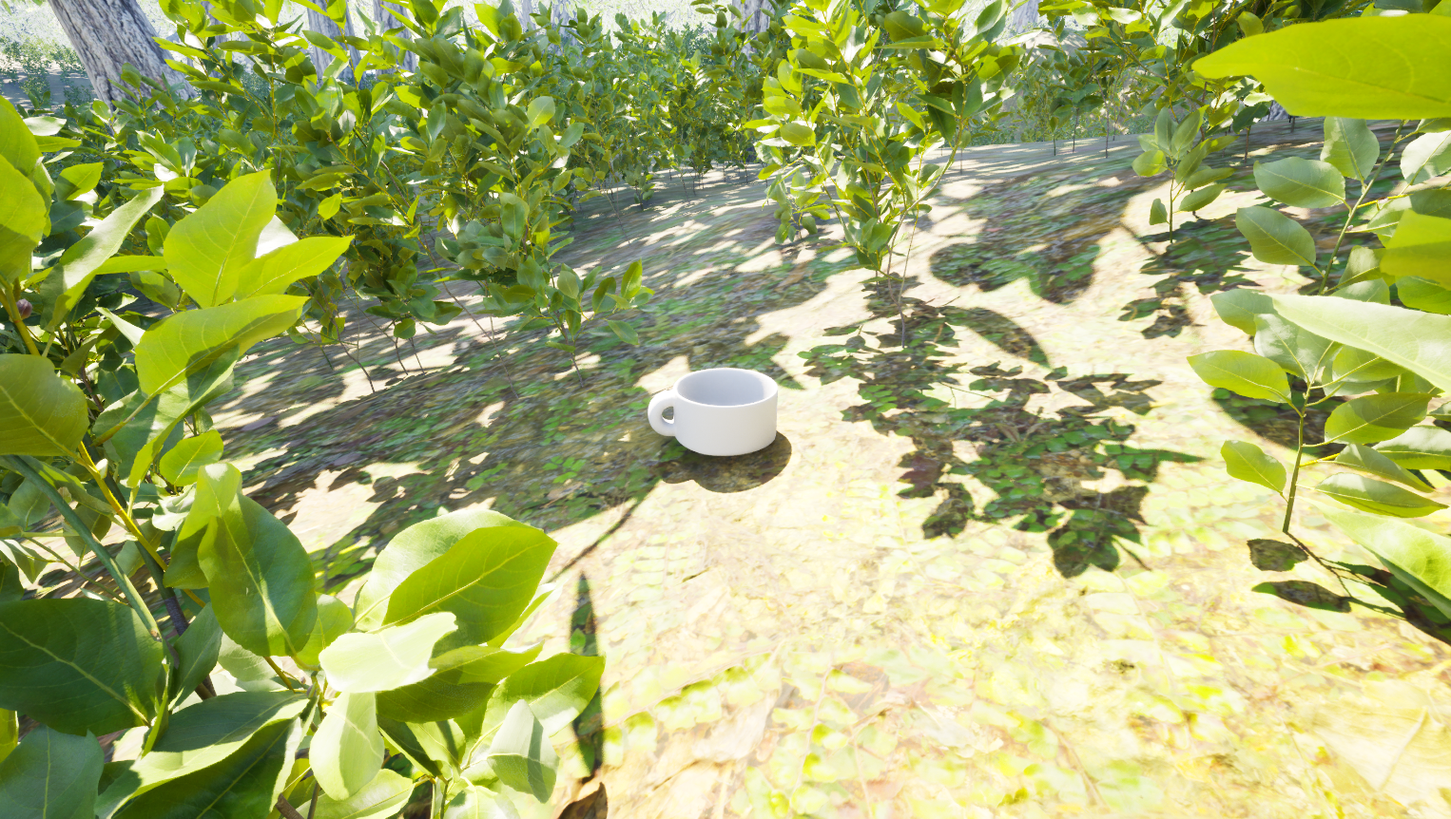Teacup: (639, 360, 792, 466)
